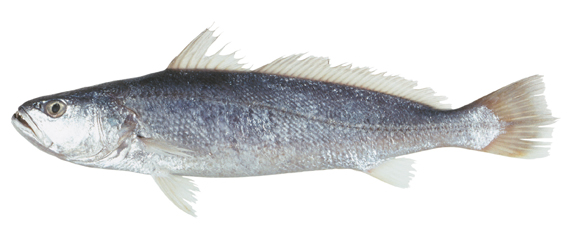fish: (10, 22, 559, 219)
